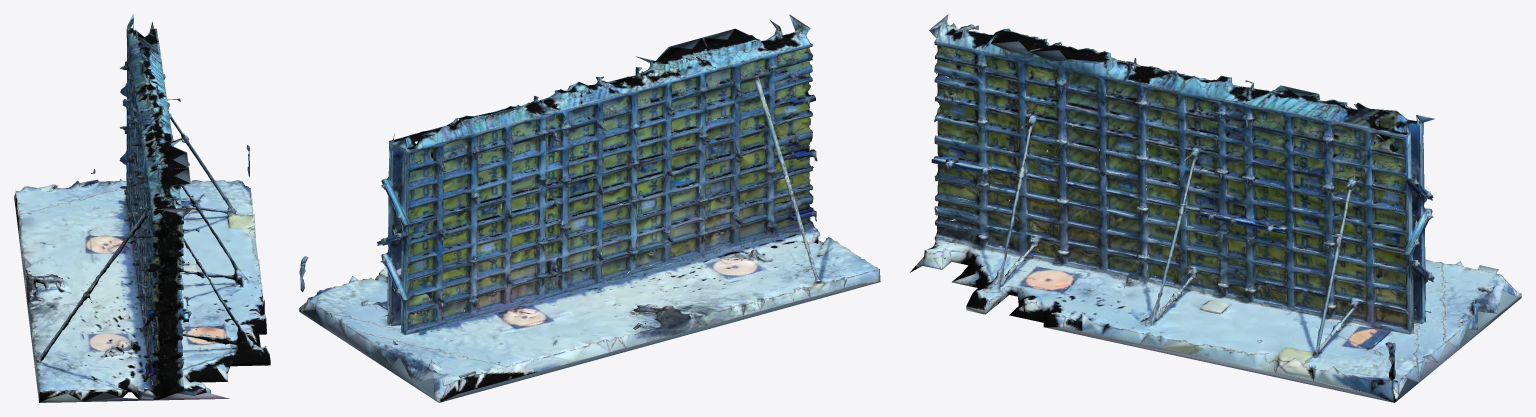
File: farmax.glb
3 renders of one model, left to right at view 1: azimuth 30°, elevation 25°; view 2: azimuth 150°, elevation 25°; view 3: azimuth 270°, elevation 25°, orthographic. The views are drawn at different scales.
Parts seen in each view (by area): view 1: FormworkFramaxXlifePlus _01 - Default_0, FormworkFramaxXlifePlus _01 - Default_0.001; view 2: FormworkFramaxXlifePlus _01 - Default_0, FormworkFramaxXlifePlus _01 - Default_0.001; view 3: FormworkFramaxXlifePlus _01 - Default_0, FormworkFramaxXlifePlus _01 - Default_0.001.
Boxes of the visible parts, x1,y1,x2,y2 form: FormworkFramaxXlifePlus _01 - Default_0: (16,14,270,402); FormworkFramaxXlifePlus _01 - Default_0.001: (14,79,266,402); FormworkFramaxXlifePlus _01 - Default_0: (308,20,827,381); FormworkFramaxXlifePlus _01 - Default_0.001: (299,14,880,402); FormworkFramaxXlifePlus _01 - Default_0: (925,24,1505,402); FormworkFramaxXlifePlus _01 - Default_0.001: (910,14,1521,402).
Bounding box in the file's own units: 3590 × 1765 × 4322.
1 material, 1 textured.
